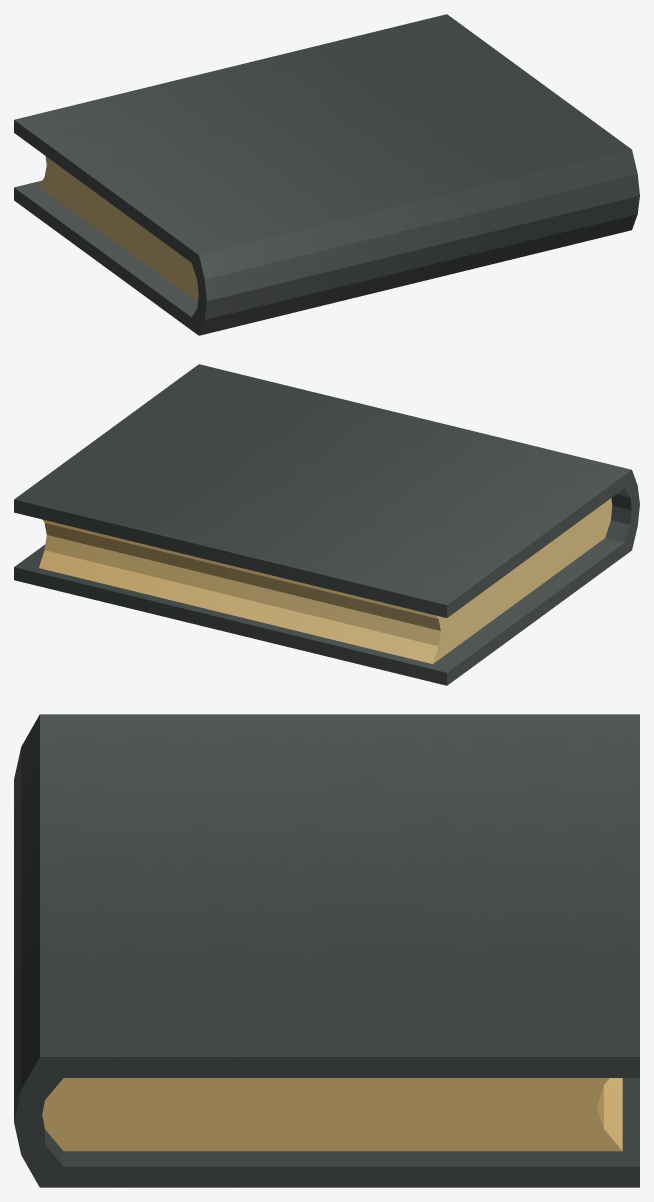
Rendered from Book_02.fbx.
The picture shows the model from 3 angles, top to bottom: view 1: azimuth 30°, elevation 25°; view 2: azimuth 150°, elevation 25°; view 3: azimuth 270°, elevation 25°; orthographic projection. The views are drawn at different scales.
Parts seen in each view (by area): view 1: Book_2; view 2: Book_2; view 3: Book_2.
Boxes of the visible parts, x1,y1,x2,y2 form: Book_2: (14, 14, 639, 335); Book_2: (14, 364, 639, 685); Book_2: (14, 714, 639, 1187).
Bounding box in the file's own units: 0.4224 × 0.0752 × 0.326.
